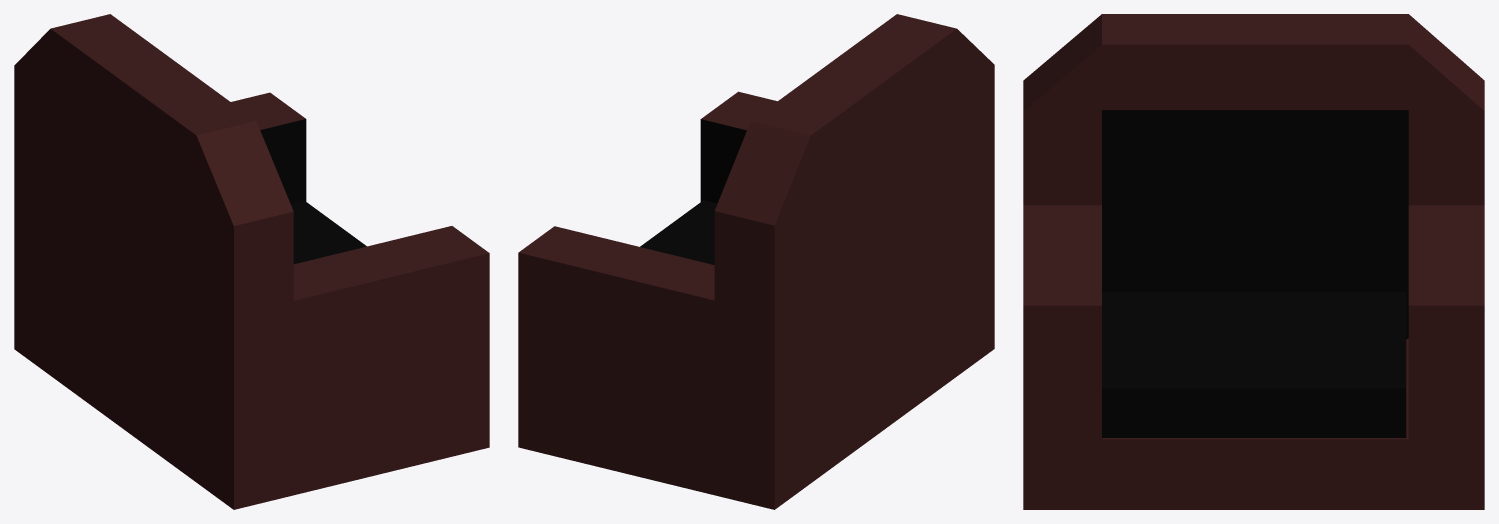
Rendered from Koltuğumuz.fbx.
3 renders of one model, left to right at view 1: azimuth 30°, elevation 25°; view 2: azimuth 150°, elevation 25°; view 3: azimuth 270°, elevation 25°, orthographic. The views are drawn at different scales.
Visible parts, largest first — view 1: pCube3; view 2: pCube3; view 3: pCube3.
Part boxes in pixels (left/top/right/bottom): pCube3: left=14, top=14, right=489, bottom=509; pCube3: left=518, top=14, right=994, bottom=509; pCube3: left=1023, top=14, right=1484, bottom=509.
Size of the model in its own units: 1.08 by 1.41 by 1.61.
